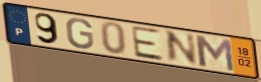0: (99, 21, 130, 57)
9: (33, 12, 60, 46)
E: (129, 24, 166, 63)
G: (65, 17, 96, 50)
M: (193, 33, 237, 74)
N: (164, 29, 199, 66)
